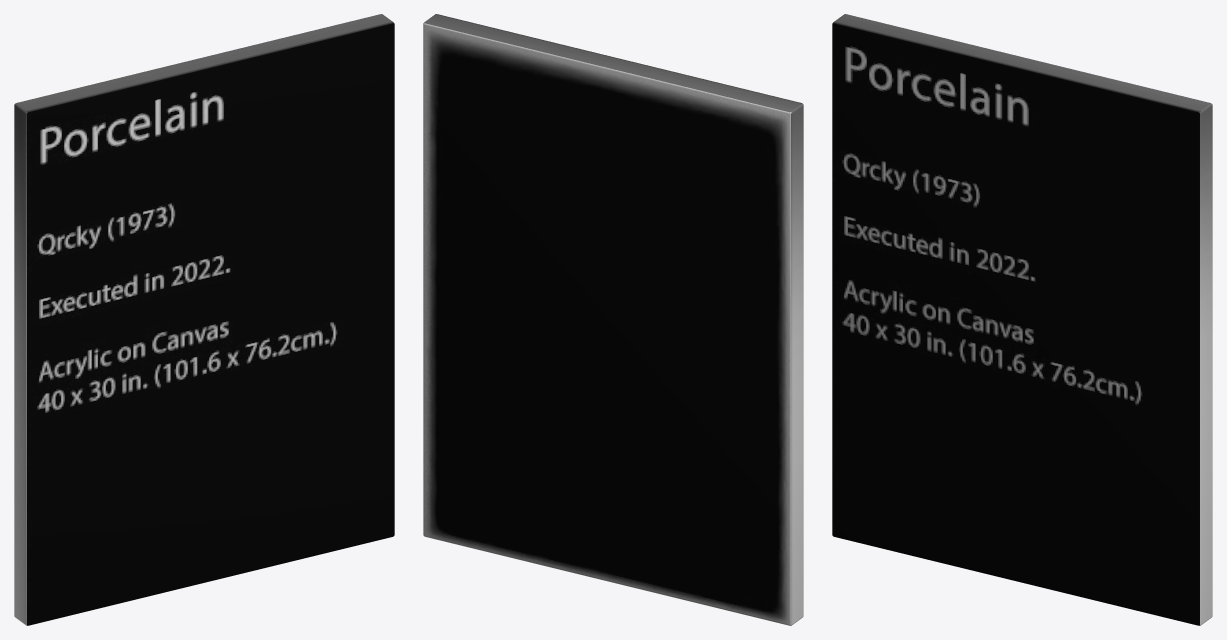
Rendered from porcelainv3.glb.
The picture shows the model from 3 angles, left to right: view 1: azimuth 30°, elevation 25°; view 2: azimuth 150°, elevation 25°; view 3: azimuth 330°, elevation 25°; orthographic projection.
Parts seen in each view (by area): view 1: Canvas; view 2: Canvas; view 3: Canvas.
Boxes of the visible parts, bbox=[...] form: Canvas: bbox=[14, 14, 394, 625]; Canvas: bbox=[423, 14, 803, 625]; Canvas: bbox=[832, 14, 1212, 625].
Size of the model in its own units: 1.56 by 2.08 by 0.0956.
Materials: 1 (1 with a texture image).
